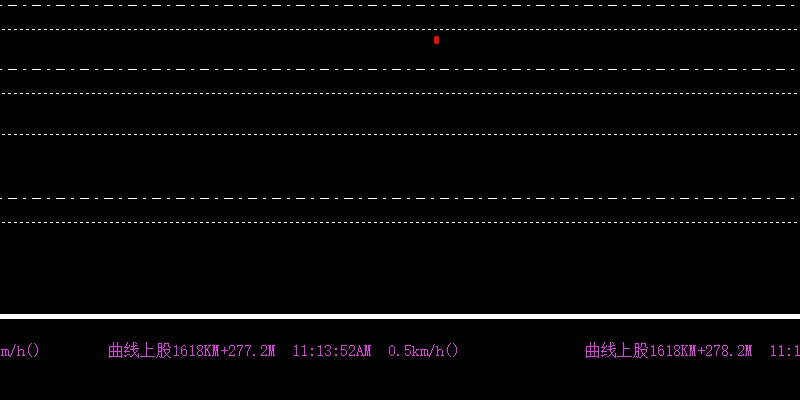face_down: (431, 24, 441, 43)
